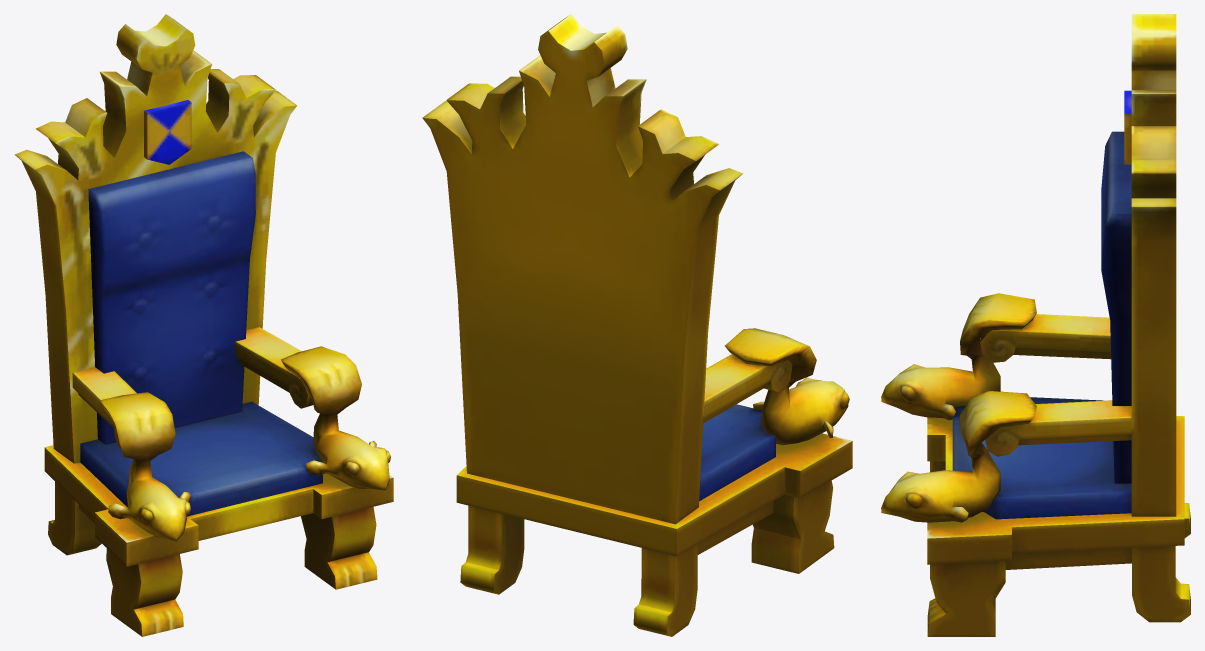
File: Throne.fbx
3 renders of one model, left to right at view 1: azimuth 30°, elevation 25°; view 2: azimuth 150°, elevation 25°; view 3: azimuth 270°, elevation 25°, orthographic. The views are drawn at different scales.
Visible parts, largest first — view 1: Throne; view 2: Throne; view 3: Throne.
Part boxes in pixels (x1,y1,x2,y2): Throne: [14, 14, 393, 636]; Throne: [422, 14, 852, 636]; Throne: [881, 14, 1190, 636].
Bounding box in the file's own units: 90.97 × 164 × 83.96.
Materials: 1 (1 with a texture image).
